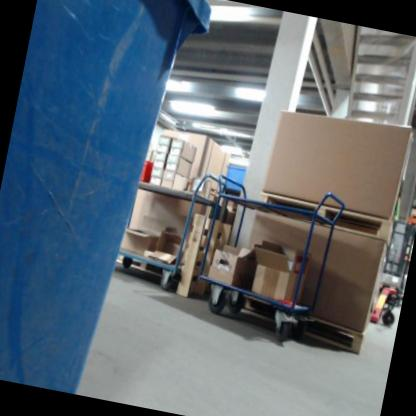pallet: (254, 190, 400, 247), (175, 212, 236, 302), (303, 314, 373, 357)
pallet_truck: (365, 214, 416, 334)
small_load_carrier: (138, 159, 155, 182)
